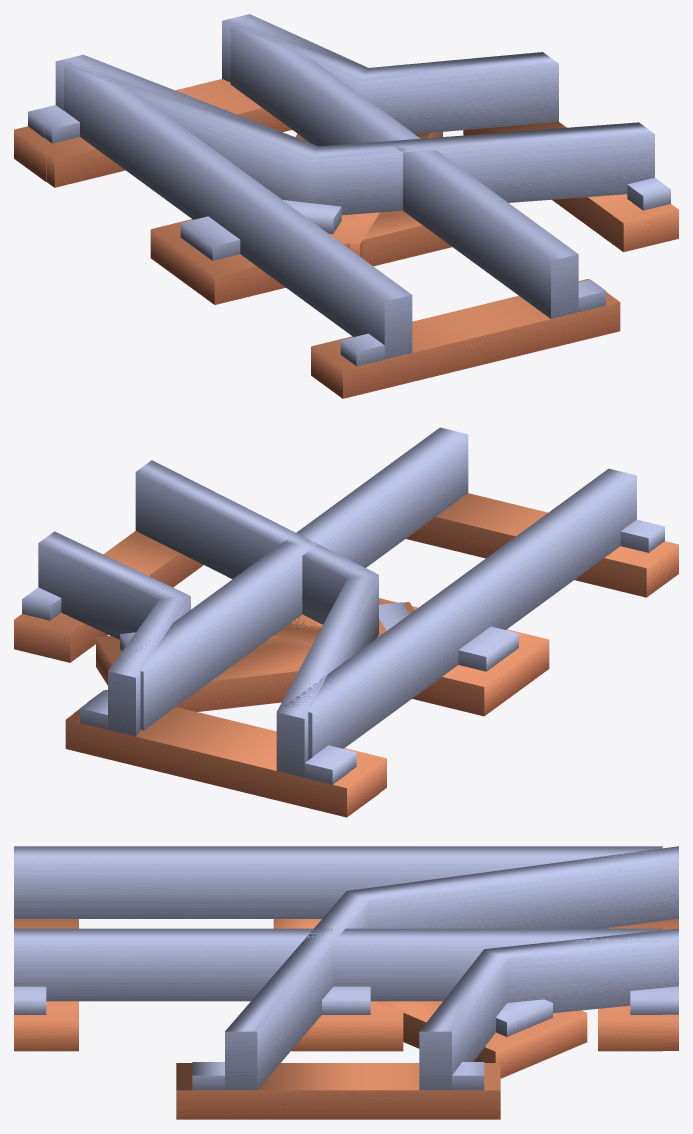
Rendered from cross3-L.glb.
3 renders of one model, top to bottom at view 1: azimuth 30°, elevation 25°; view 2: azimuth 150°, elevation 25°; view 3: azimuth 270°, elevation 25°, orthographic.
Visible parts, largest first — view 1: cross3-L; view 2: cross3-L; view 3: cross3-L.
Boxes of the visible parts, bbox=[...] form: cross3-L: bbox=[14, 14, 678, 398]; cross3-L: bbox=[14, 427, 678, 817]; cross3-L: bbox=[14, 846, 678, 1119].
Size of the model in its own units: 0.7509 by 0.15 by 1.03.
2 materials, 2 textured.
